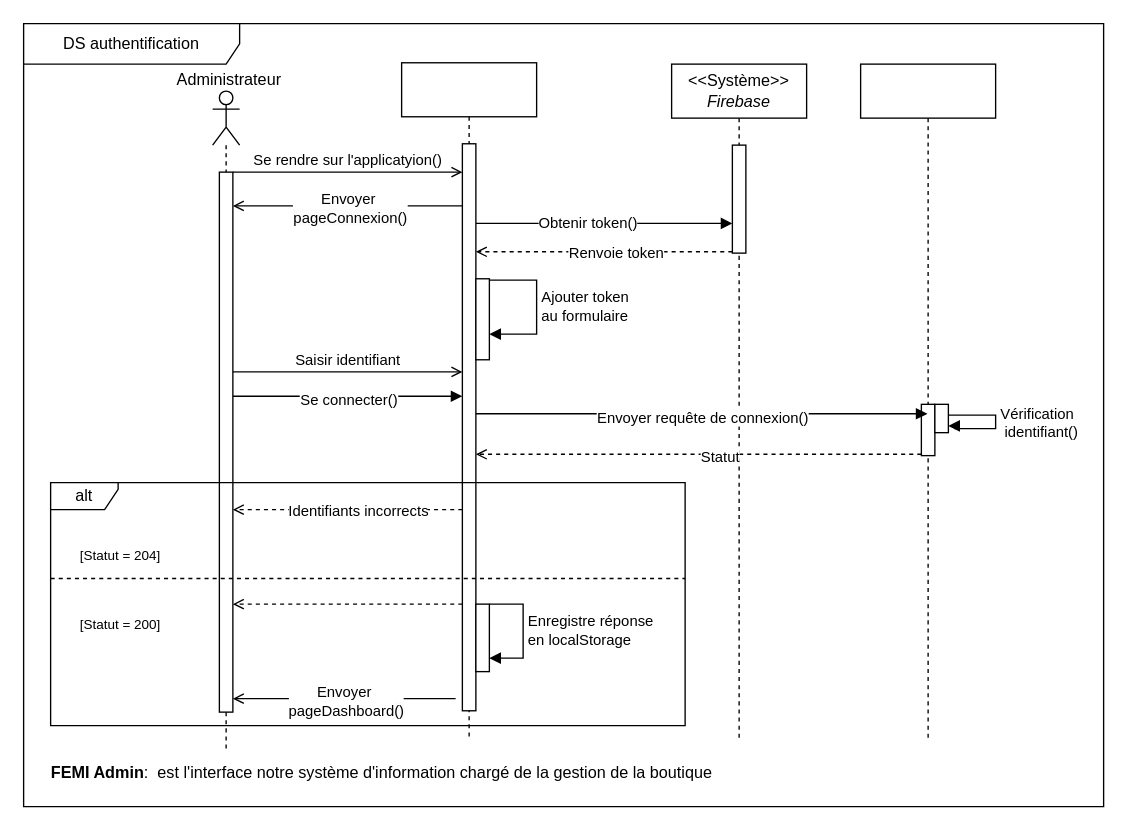
This 1127x830 diagram has some shape labels left out. The shapes that lost their labels are listed below. From the top down, each one's centre as x and y in pixels, then its label:
At [468,400]: "<<Système>> FEMI Admin".
At [927,401]: "Microservice user".
